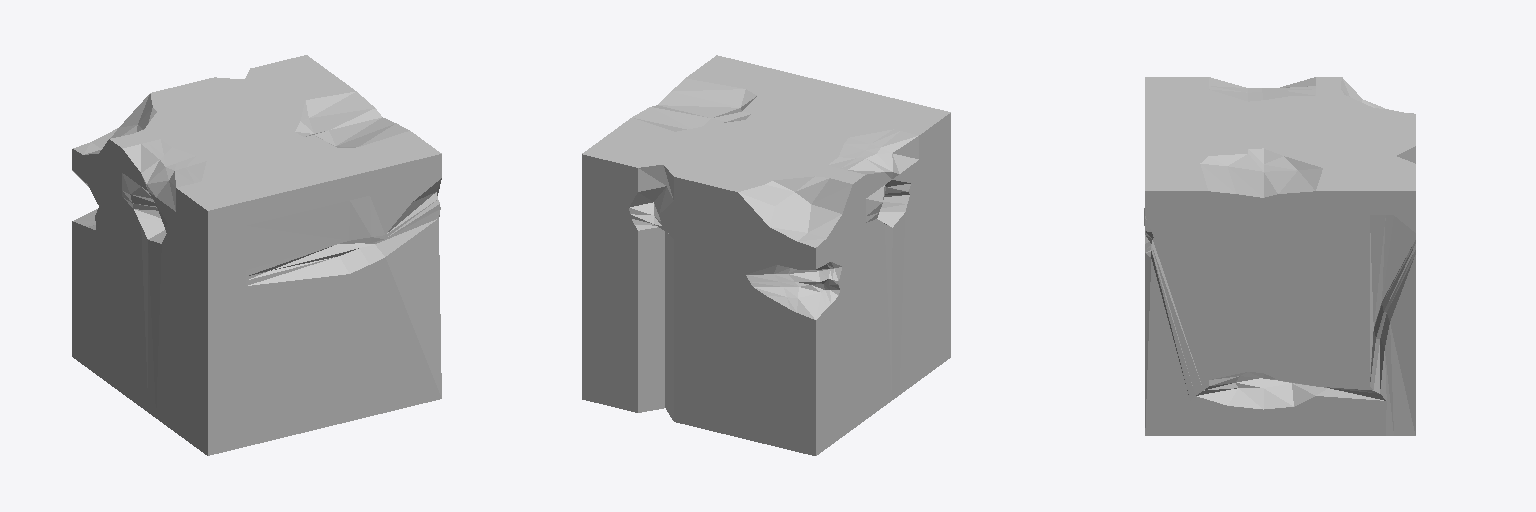
File: Building.obj
The picture shows the model from 3 angles: view 1: azimuth 30°, elevation 25°; view 2: azimuth 150°, elevation 25°; view 3: azimuth 270°, elevation 25°; orthographic projection.
Visible parts, largest first — view 1: Cube; view 2: Cube; view 3: Cube.
Boxes of the visible parts, <box> form: Cube: <box>72,55,441,455</box>; Cube: <box>582,55,950,455</box>; Cube: <box>1144,77,1415,435</box>.
Bounding box in the file's own units: 2.06 × 2 × 2.01.